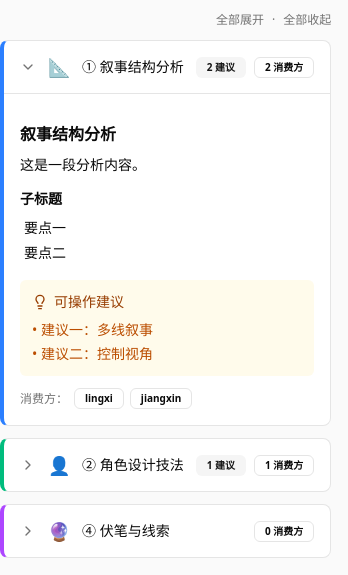
Test case: DimensionReport › collapse all hides all content
Click the button "全部收起". click: click(307, 20)
box: [283,12,331,28]
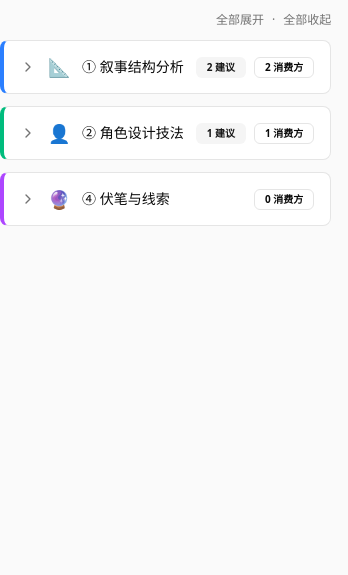
Now the text "可操作建议" is gone
